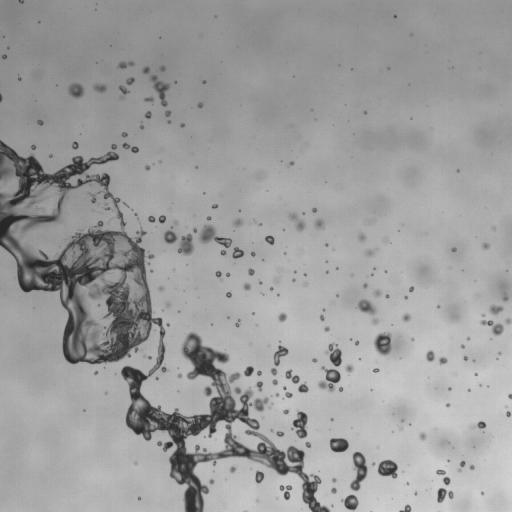droplet: (199, 225, 231, 247), (318, 366, 340, 392), (291, 410, 307, 438), (374, 332, 391, 355), (325, 342, 341, 366), (377, 459, 397, 478), (178, 234, 193, 255), (341, 494, 358, 511), (330, 438, 348, 452), (68, 83, 83, 98), (437, 488, 453, 502), (164, 227, 177, 243), (279, 485, 292, 499), (489, 304, 503, 314), (232, 247, 244, 258), (255, 470, 264, 483), (471, 421, 485, 429), (314, 218, 324, 229), (93, 84, 106, 92), (243, 366, 253, 376), (88, 192, 97, 203), (118, 85, 128, 94), (278, 312, 287, 322), (426, 350, 434, 361), (265, 235, 274, 244), (344, 364, 353, 373), (233, 218, 243, 226), (255, 381, 262, 391), (126, 77, 134, 85), (402, 313, 410, 321), (365, 250, 375, 256), (158, 215, 165, 223), (439, 357, 447, 364), (229, 465, 236, 473), (142, 66, 149, 73), (243, 283, 250, 290), (374, 290, 381, 297), (419, 432, 426, 439), (148, 216, 156, 222), (215, 271, 221, 279), (144, 97, 153, 102), (145, 111, 151, 118), (72, 142, 78, 149), (359, 234, 365, 241), (482, 243, 489, 249), (248, 268, 254, 275), (502, 293, 508, 300), (271, 367, 276, 375), (505, 318, 511, 324), (235, 319, 240, 326), (276, 431, 283, 436), (165, 110, 170, 116), (37, 120, 43, 125), (220, 250, 226, 255), (409, 286, 414, 292), (272, 379, 277, 385), (506, 411, 511, 417), (331, 487, 336, 493), (160, 66, 165, 71), (122, 132, 127, 137), (145, 165, 150, 170), (250, 251, 255, 256), (226, 292, 231, 297), (324, 326, 329, 331), (177, 373, 182, 378), (305, 442, 310, 447), (209, 479, 214, 484), (258, 172, 264, 176), (320, 315, 324, 321), (283, 409, 289, 413), (198, 102, 202, 107), (123, 202, 128, 206), (212, 204, 217, 208), (206, 216, 211, 220), (451, 247, 456, 251), (275, 277, 279, 282), (363, 283, 367, 288), (312, 358, 317, 362), (373, 368, 378, 372), (257, 370, 261, 375), (469, 465, 474, 469), (2, 54, 6, 58), (180, 123, 184, 127), (31, 145, 35, 149), (290, 161, 294, 165), (312, 208, 316, 212), (385, 294, 389, 298), (355, 341, 359, 345), (332, 478, 336, 482), (158, 287, 163, 290), (508, 394, 511, 399), (174, 220, 177, 224), (226, 273, 229, 277), (166, 303, 169, 307), (453, 315, 457, 318), (461, 344, 464, 348), (464, 356, 467, 360), (94, 371, 98, 374), (339, 387, 342, 391), (446, 403, 449, 407), (269, 404, 272, 408), (18, 0, 23, 2), (18, 77, 21, 80), (140, 125, 143, 128), (193, 228, 196, 231), (270, 287, 273, 290), (148, 356, 151, 359), (399, 426, 402, 429), (372, 462, 375, 465), (203, 80, 205, 83), (168, 120, 170, 123), (49, 155, 52, 157), (467, 337, 469, 340), (498, 352, 501, 354), (155, 377, 158, 379), (276, 393, 278, 396), (394, 15, 396, 17), (150, 270, 152, 272), (326, 271, 328, 273), (292, 279, 294, 281), (259, 281, 261, 283), (304, 283, 306, 285), (405, 296, 407, 298), (437, 305, 439, 307), (167, 323, 169, 325), (475, 373, 477, 375), (271, 429, 273, 431), (134, 462, 136, 464), (415, 492, 417, 494), (481, 492, 483, 494)
ligament: (0, 140, 330, 511), (350, 452, 367, 490), (150, 75, 169, 106), (285, 370, 308, 393), (357, 299, 378, 324), (480, 320, 503, 335), (273, 345, 288, 366), (289, 213, 305, 231), (436, 469, 450, 485), (122, 143, 138, 153), (118, 61, 133, 68), (283, 386, 292, 397), (458, 461, 465, 472), (399, 505, 411, 511), (0, 94, 2, 102)
